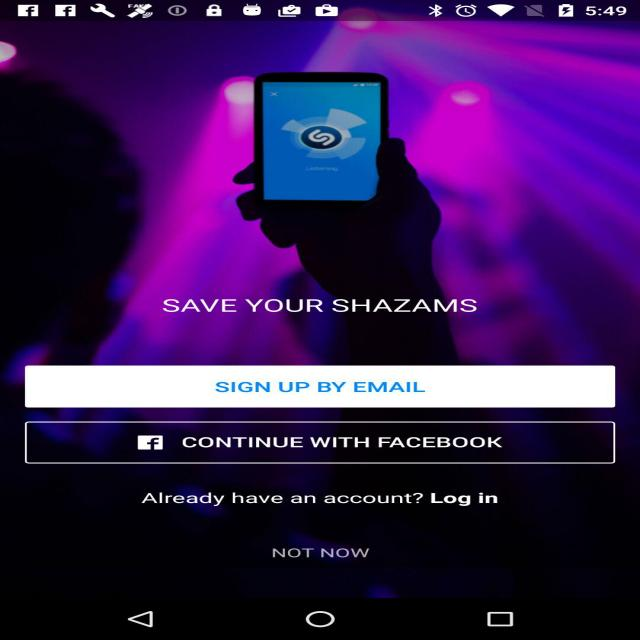button: (8, 354, 630, 471), (241, 540, 401, 573), (423, 482, 586, 511)
text: (142, 275, 526, 326), (148, 487, 429, 508)
